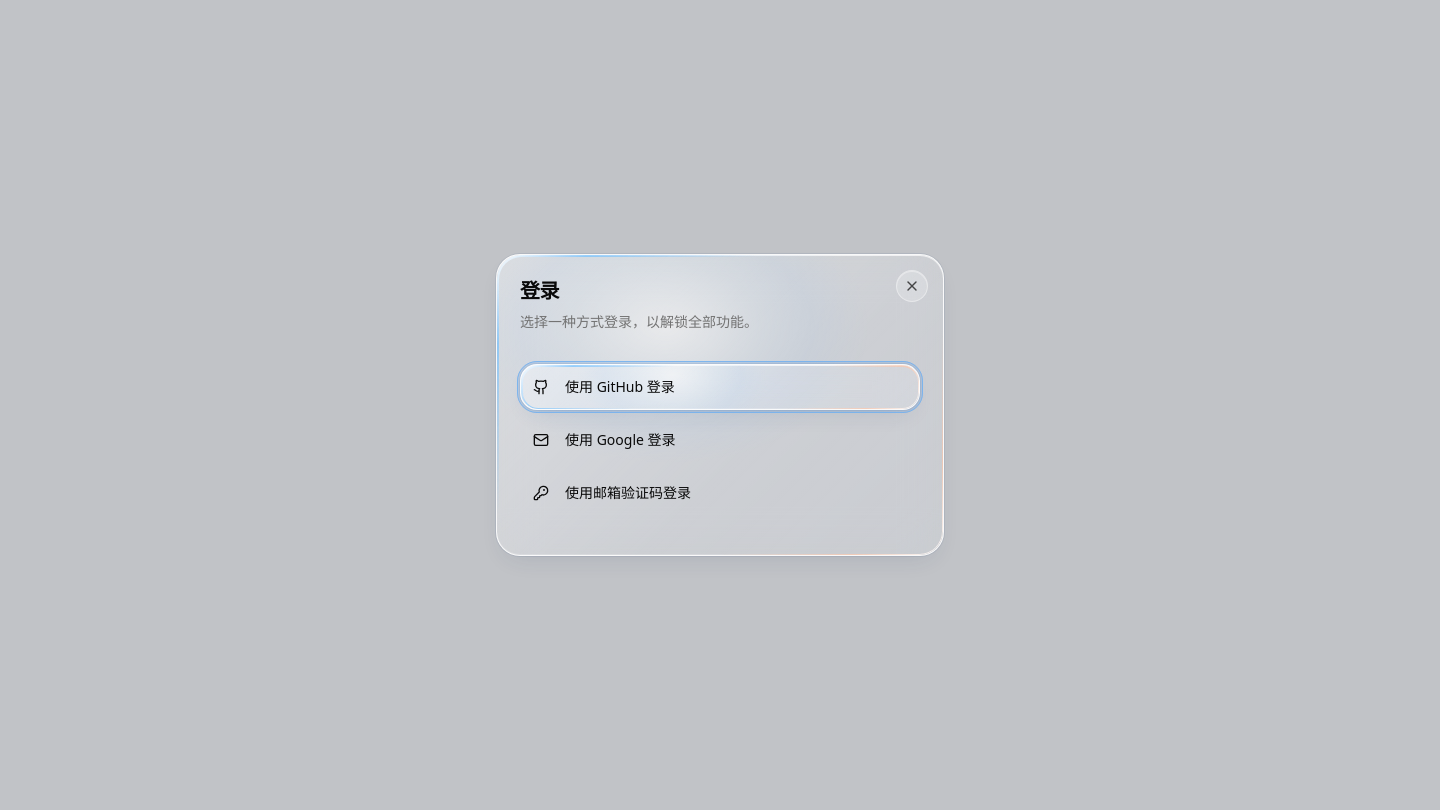
it: LoginDialog › verify 消费后失败会回邮箱输入页并保持弹窗打开
This screenshot has width=1440, height=810.
Click the button "使用邮箱验证码登录". click: (628, 492)
box: left=520, top=470, right=920, bottom=516
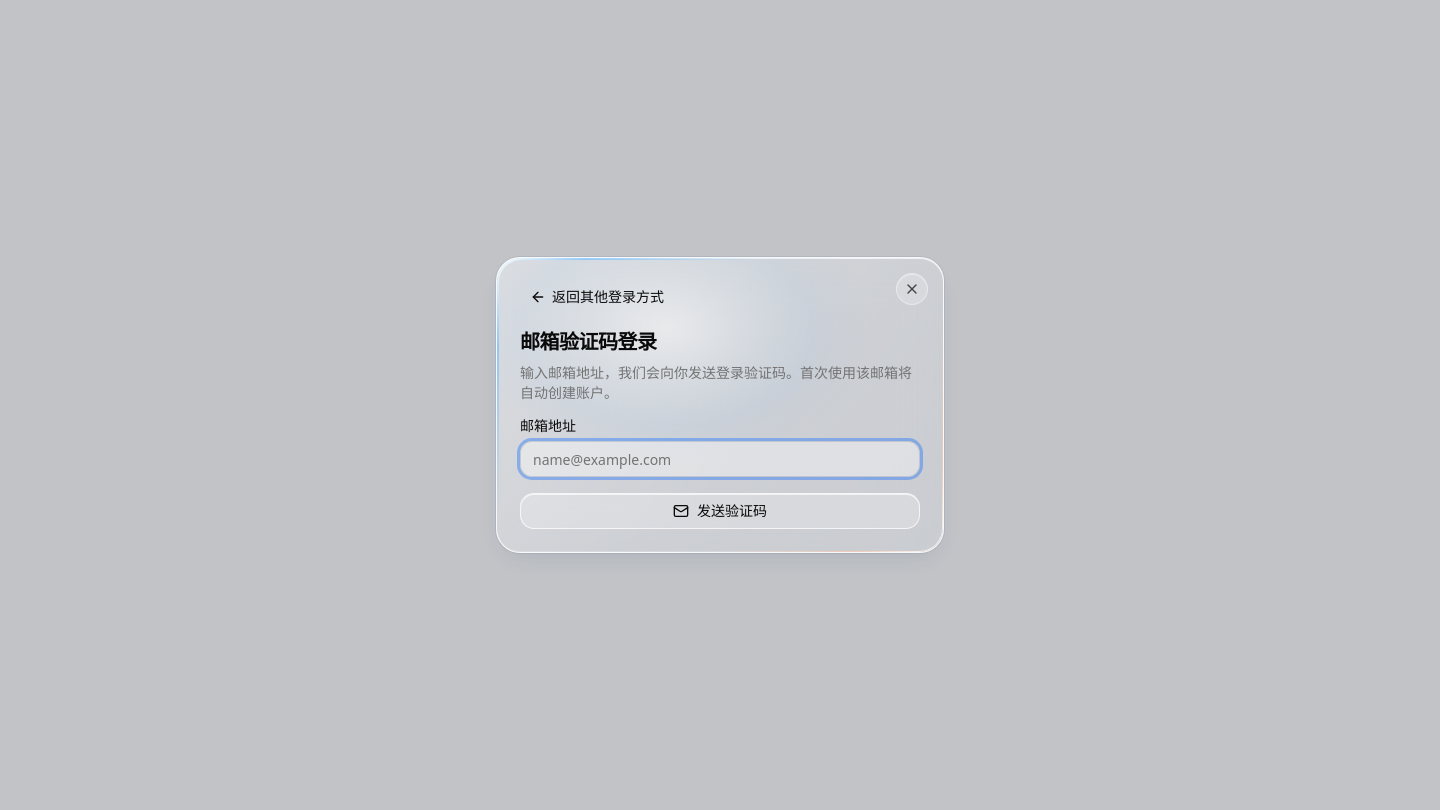
Type "user@example.com" into the field labelled "邮箱地址". click: (720, 459)
box: left=520, top=441, right=920, bottom=477
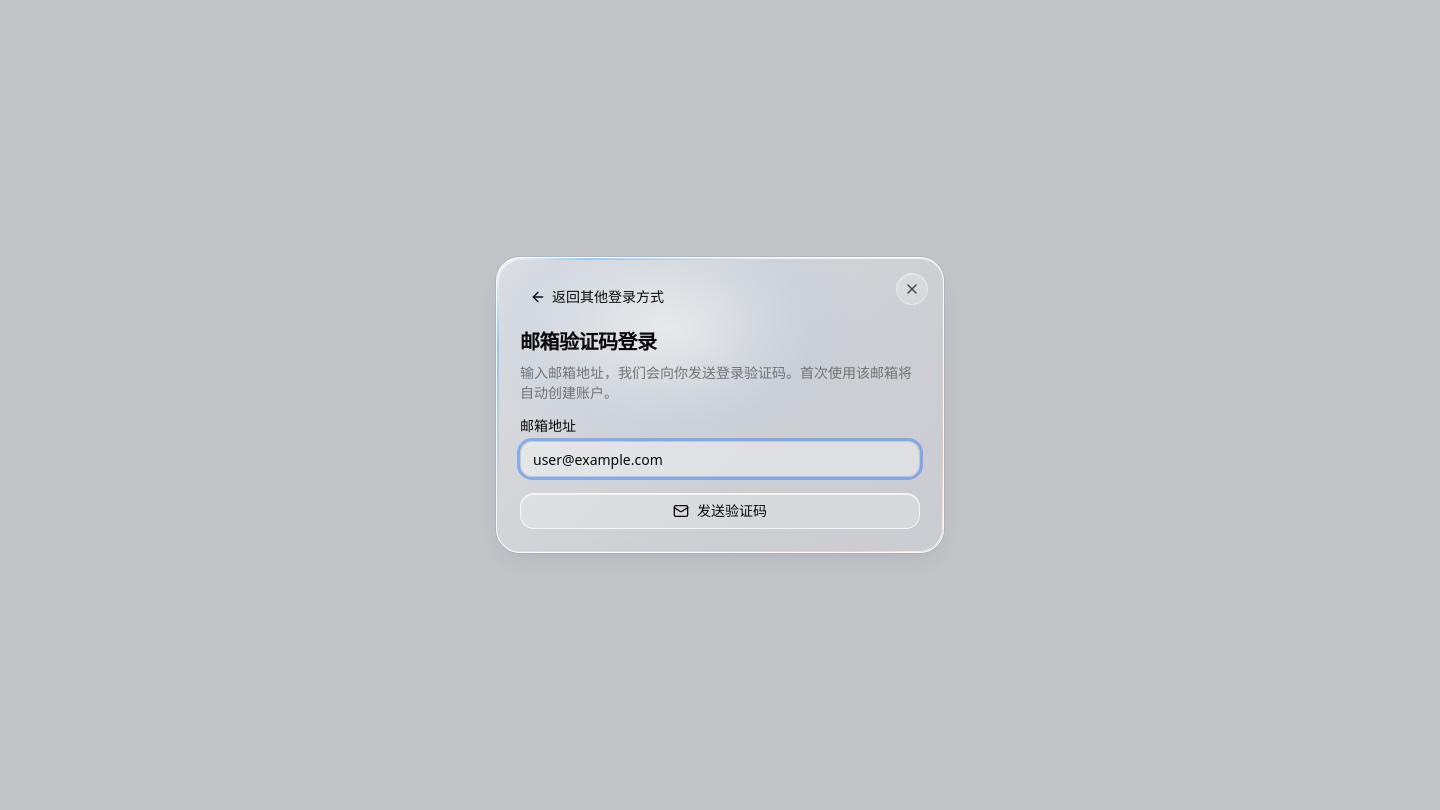
Click the button "发送验证码". click: (720, 511)
box: left=520, top=493, right=920, bottom=529
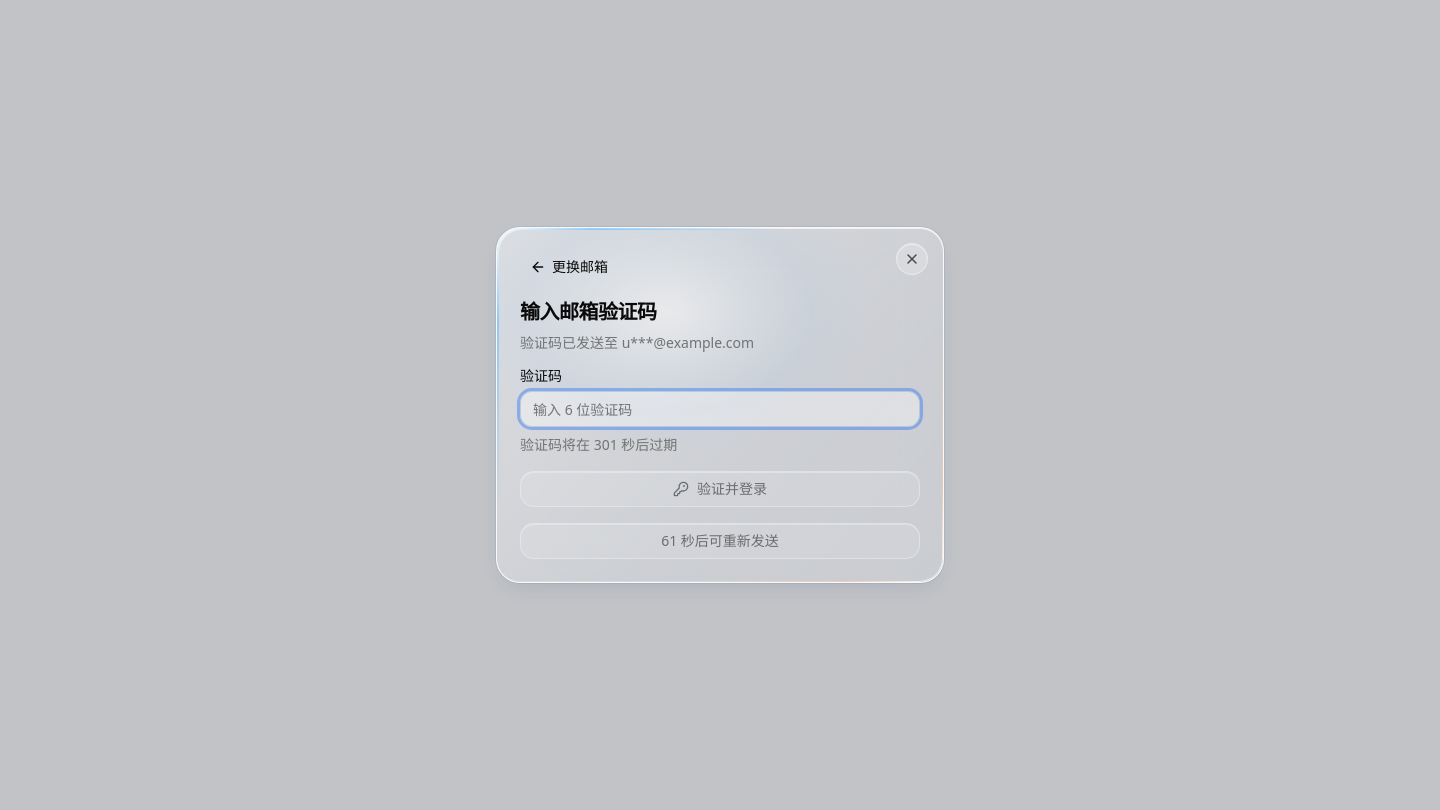
Type "123456" into the field labelled "验证码". click: (720, 409)
box: left=520, top=391, right=920, bottom=427
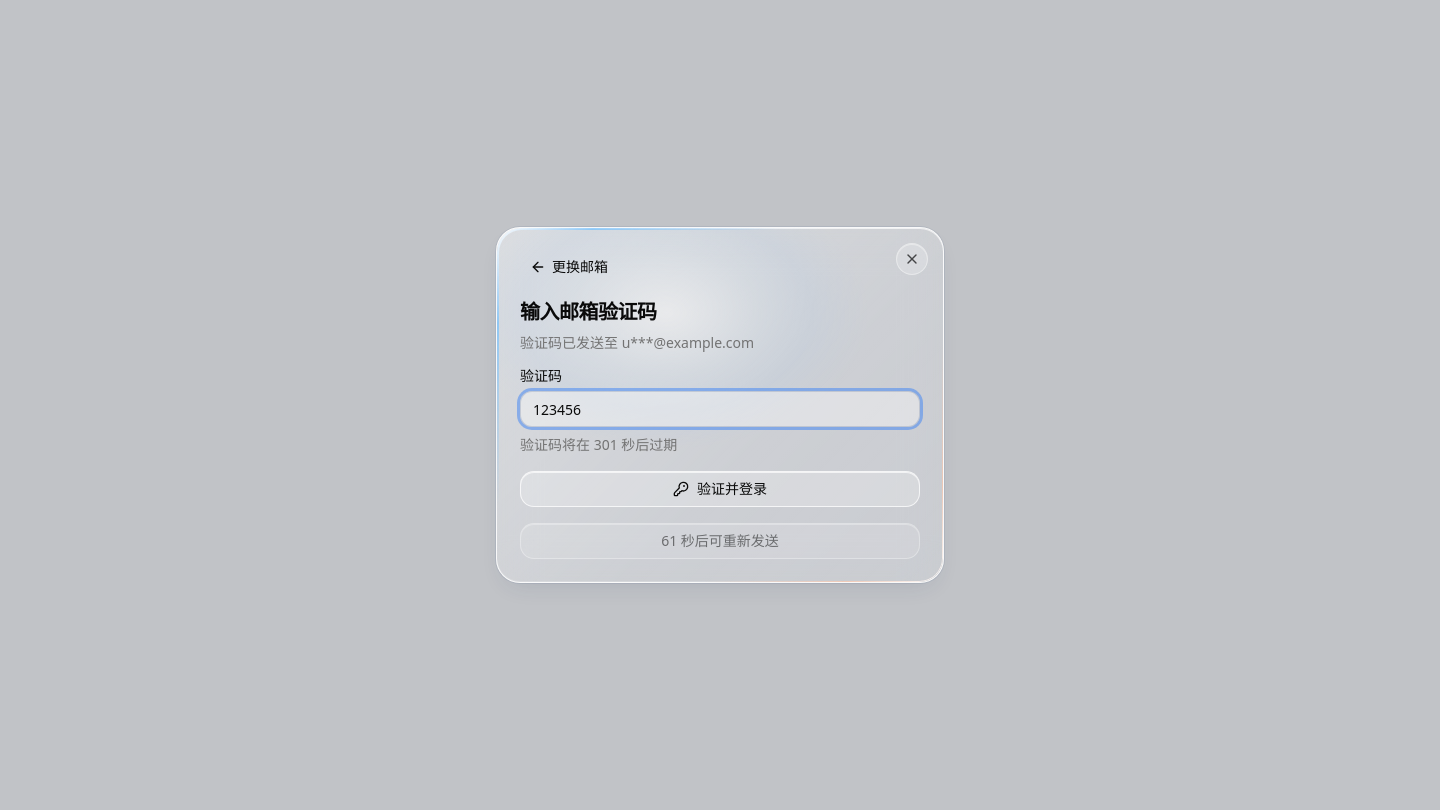
Click the button "验证并登录". click: (720, 489)
box: left=520, top=471, right=920, bottom=507
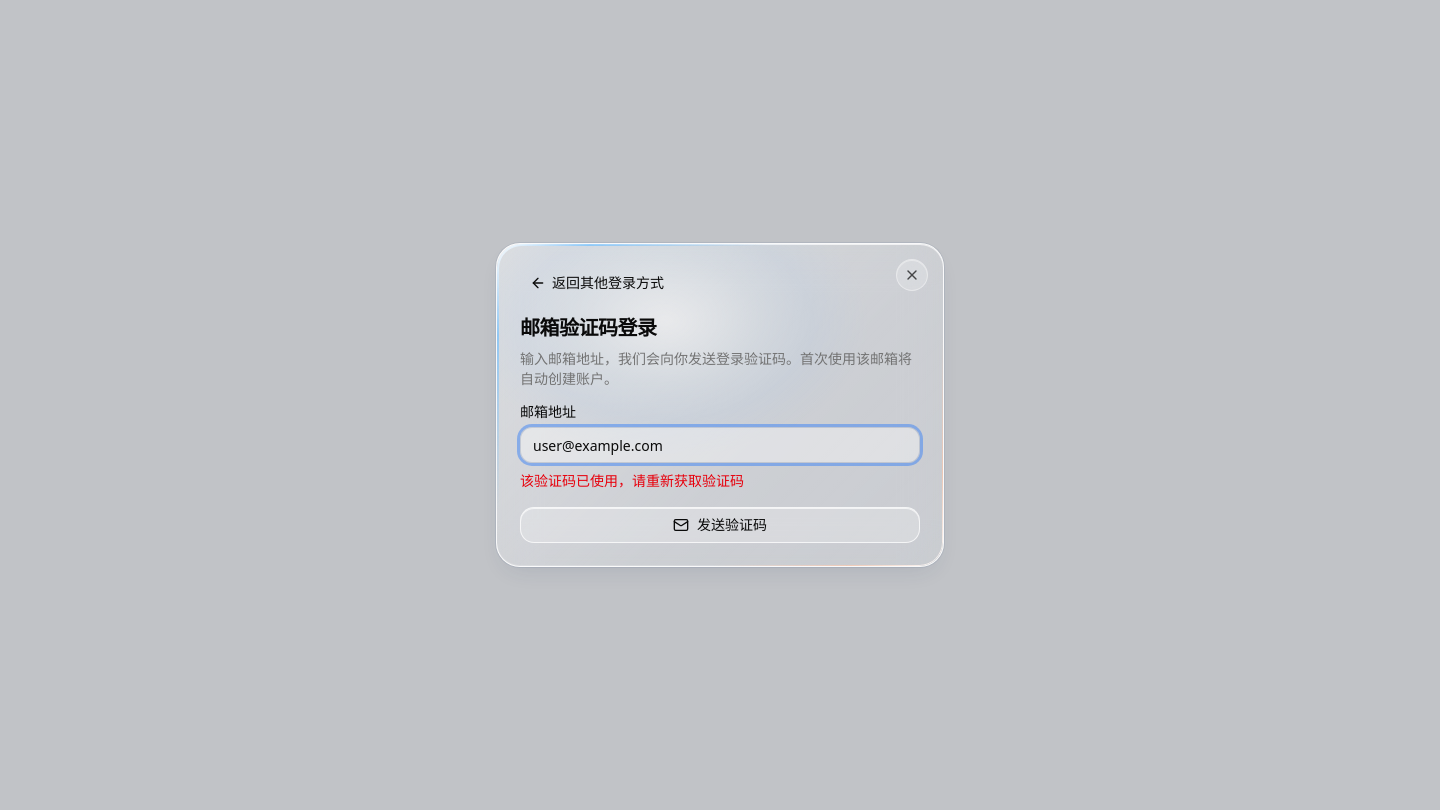
Expected: the message reads "该验证码已使用，请重新获取验证码", left=520, top=471, right=744, bottom=490
